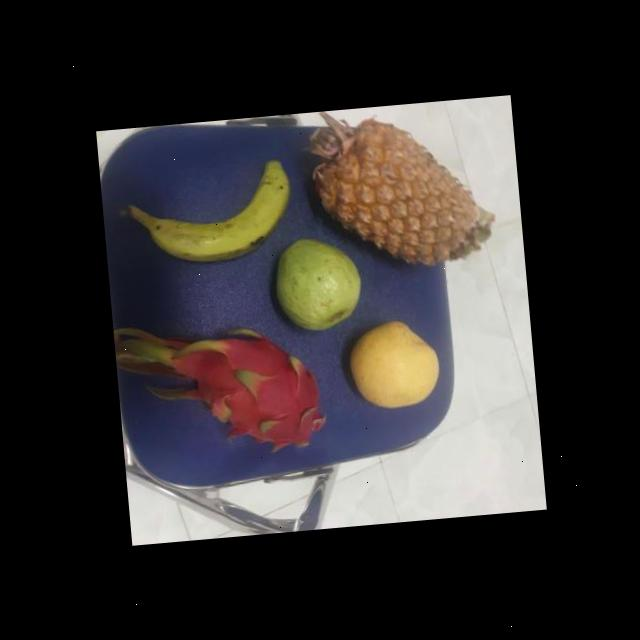banana: (144, 158, 292, 270)
guava: (270, 236, 363, 338)
pear: (344, 314, 446, 416)
pineapple: (300, 110, 484, 276)
pitaya: (172, 321, 325, 464)
